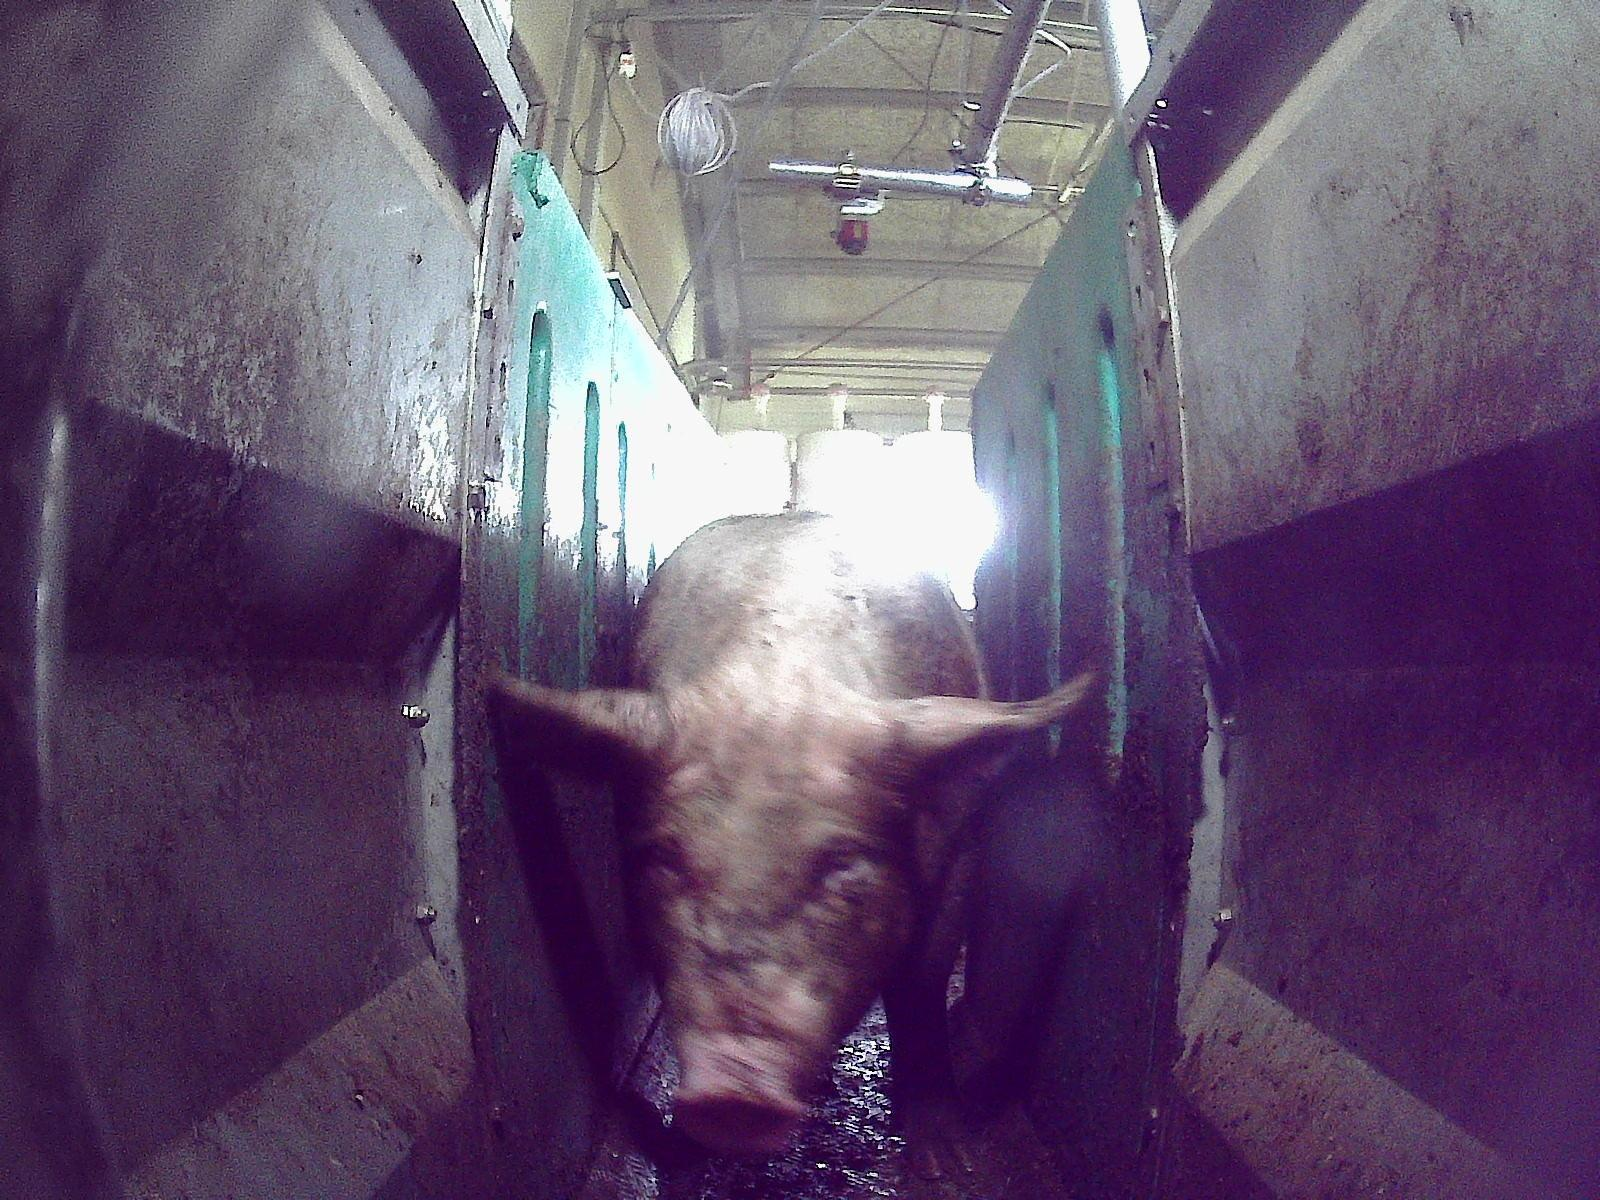Face: (634, 697, 931, 1149)
